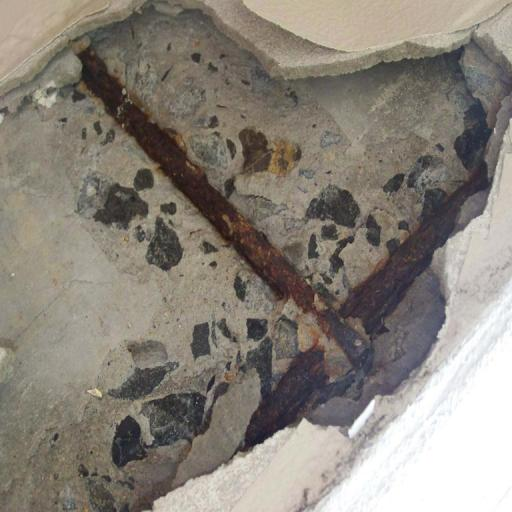spalling: (7, 6, 501, 512)
